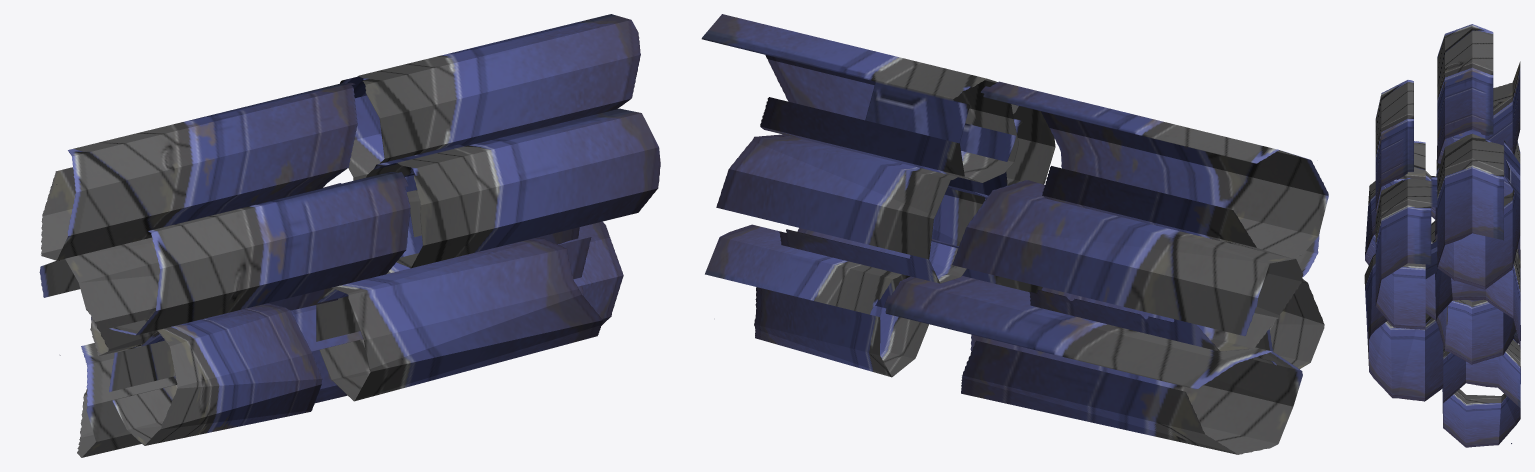
The picture shows the model from 3 angles, left to right: view 1: azimuth 30°, elevation 25°; view 2: azimuth 150°, elevation 25°; view 3: azimuth 270°, elevation 25°; orthographic projection. The views are drawn at different scales.
Size of the model in its own units: 1.7 by 0.8048 by 0.4889.
